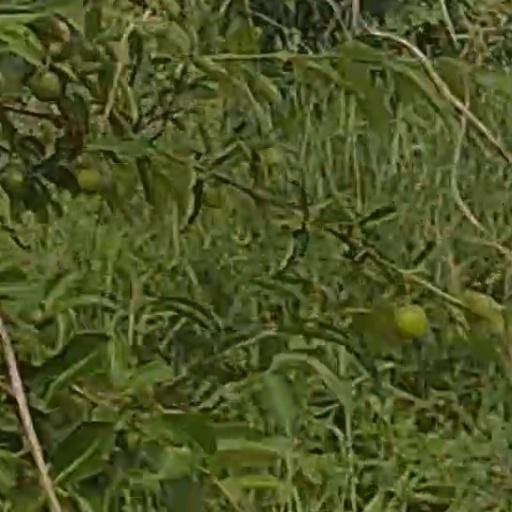acerola_verde: (394, 305, 428, 341), (32, 73, 66, 102)
